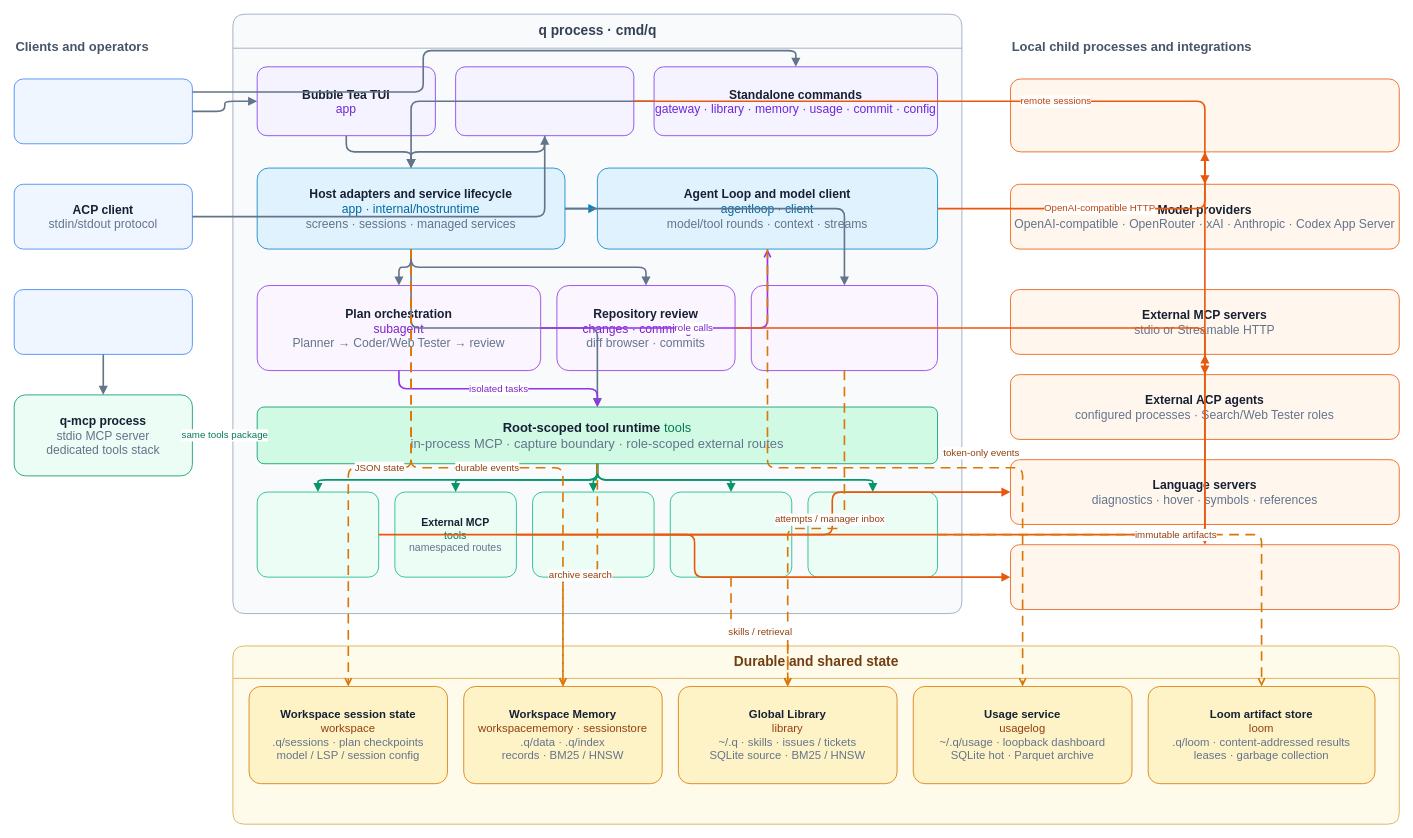
This 1413x838 diagram has some shape labels left out. Each missing label, with the centre of its shape:
"ACP adapters agent server + remote client" goes at (544,101).
"Bounded results loom capture · inspect · eval" goes at (872,534).
"Git workspace repository files · index · working tree · shell" goes at (1204,577).
"Managed Gateway child providerhost private loopback OpenAI-compatible endpoint" goes at (1204,115).
"MCP client workspace tool consumer" goes at (102,321).
"Read-only LSP lsp query tools" goes at (593,534).
"Skills and memory agentskills Library client" goes at (730,534).
"Terminal user interactive and standalone CLI" goes at (102,111).
"Ticket coordinator coordinator assign → run → manager review" goes at (844,328).
"Workspace I/O builtin FS · edit · commands" goes at (317,534).
